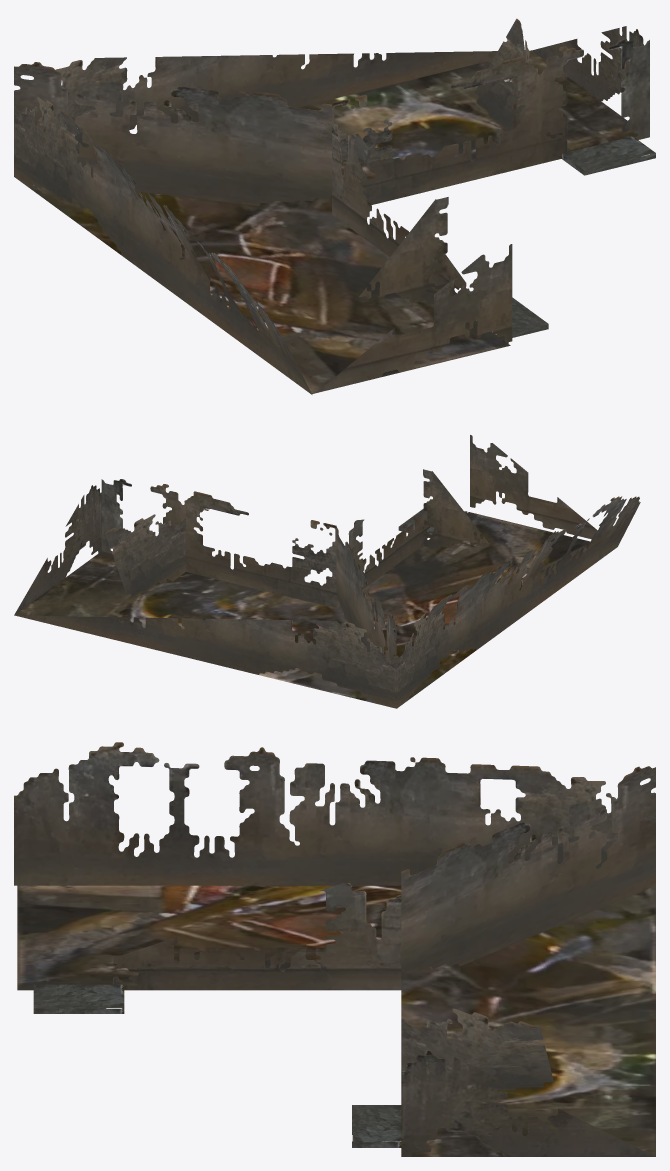
File: 2civliving_dam_hdtex.glb
3 renders of one model, top to bottom at view 1: azimuth 30°, elevation 25°; view 2: azimuth 150°, elevation 25°; view 3: azimuth 270°, elevation 25°, orthographic. The views are drawn at different scales.
Parts seen in each view (by area): view 1: Box01; view 2: Box01; view 3: Box01.
Part boxes in pixels (box(x1,y1,x2,y2)): Box01: box(14, 18, 655, 394); Box01: box(14, 435, 640, 708); Box01: box(14, 742, 655, 1156).
Bounding box in the file's own units: 14.07 × 2.77 × 12.79.
1 material, 1 textured.
